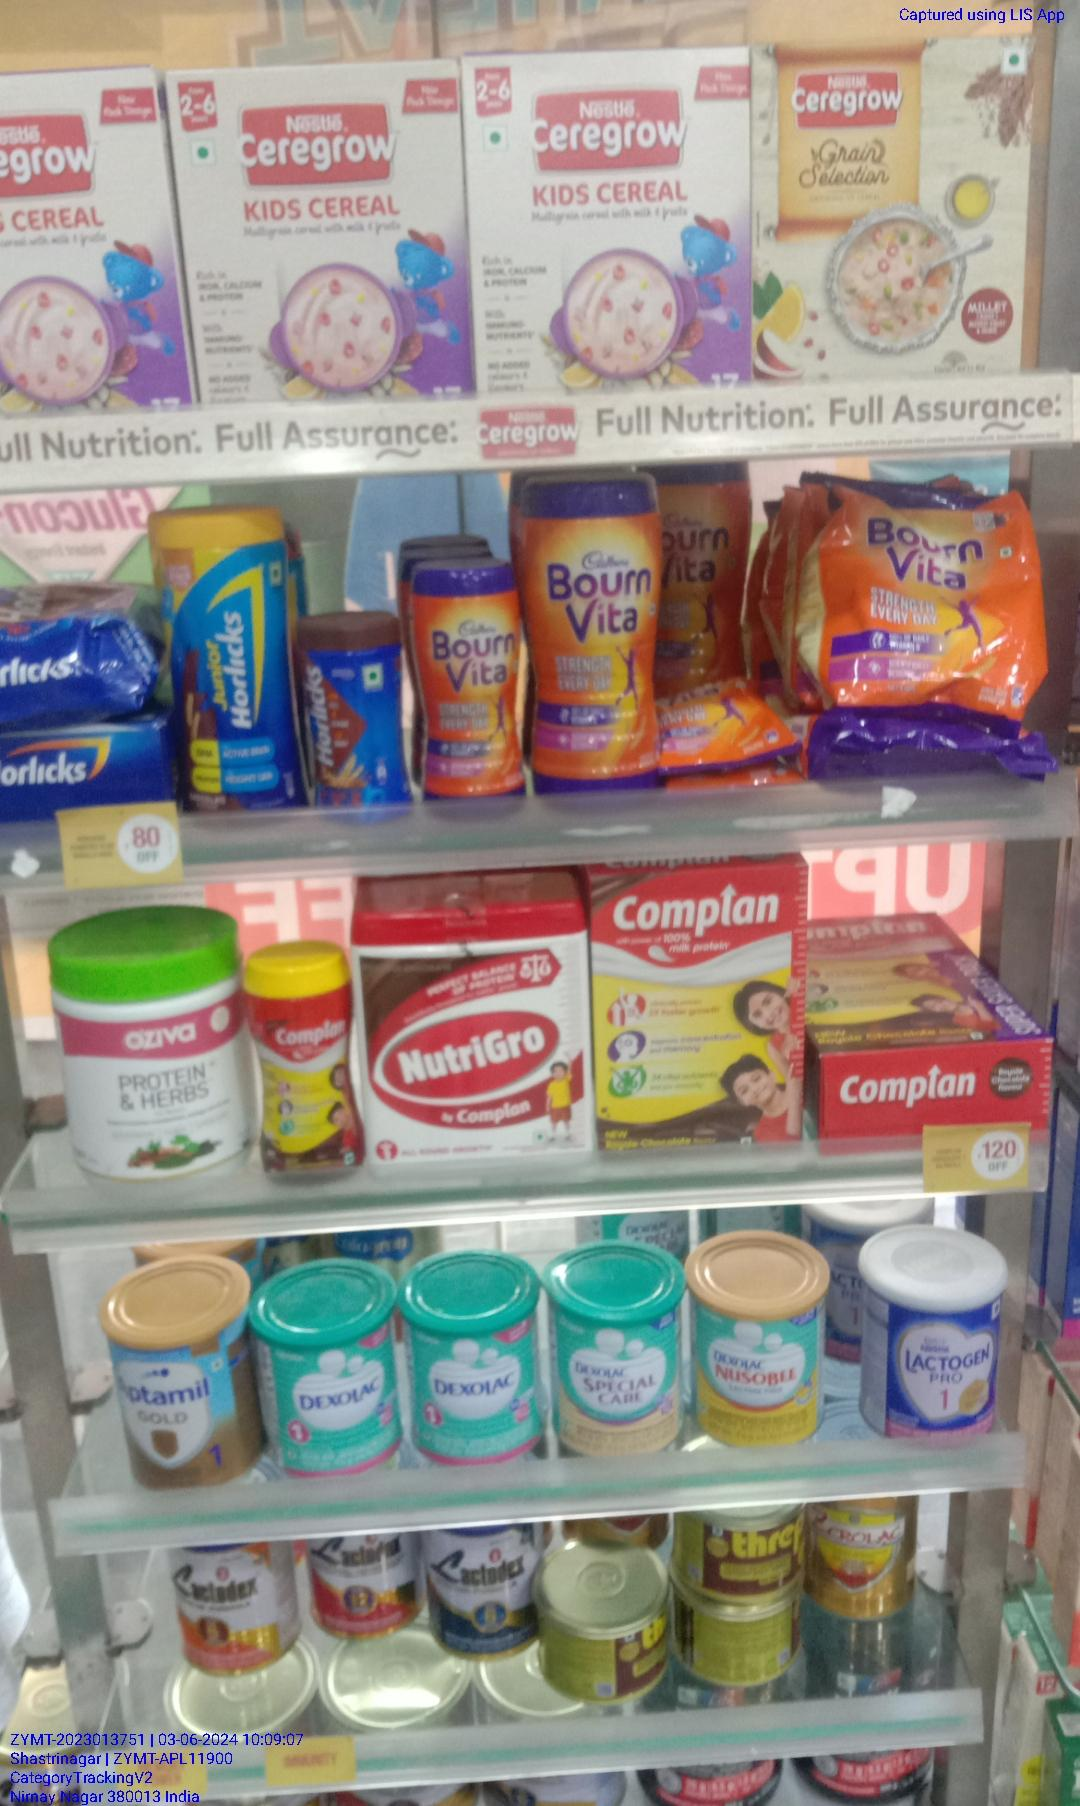COMPLAN_CHOCOLATE_200_GMS_JAR: (246, 931, 345, 1181)
